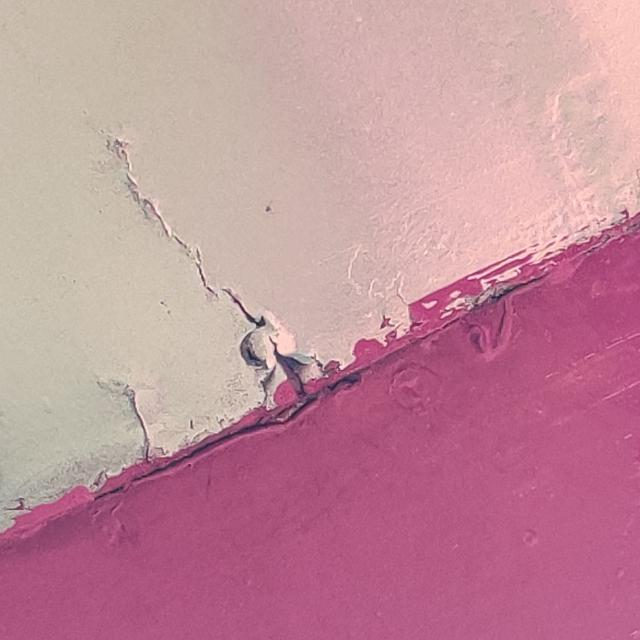crack: (92, 115, 350, 427), (102, 369, 182, 476)
